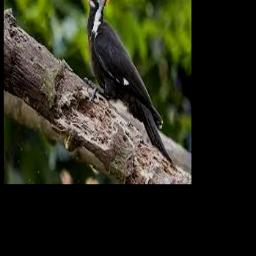Woodpecker: (67, 0, 175, 166)
